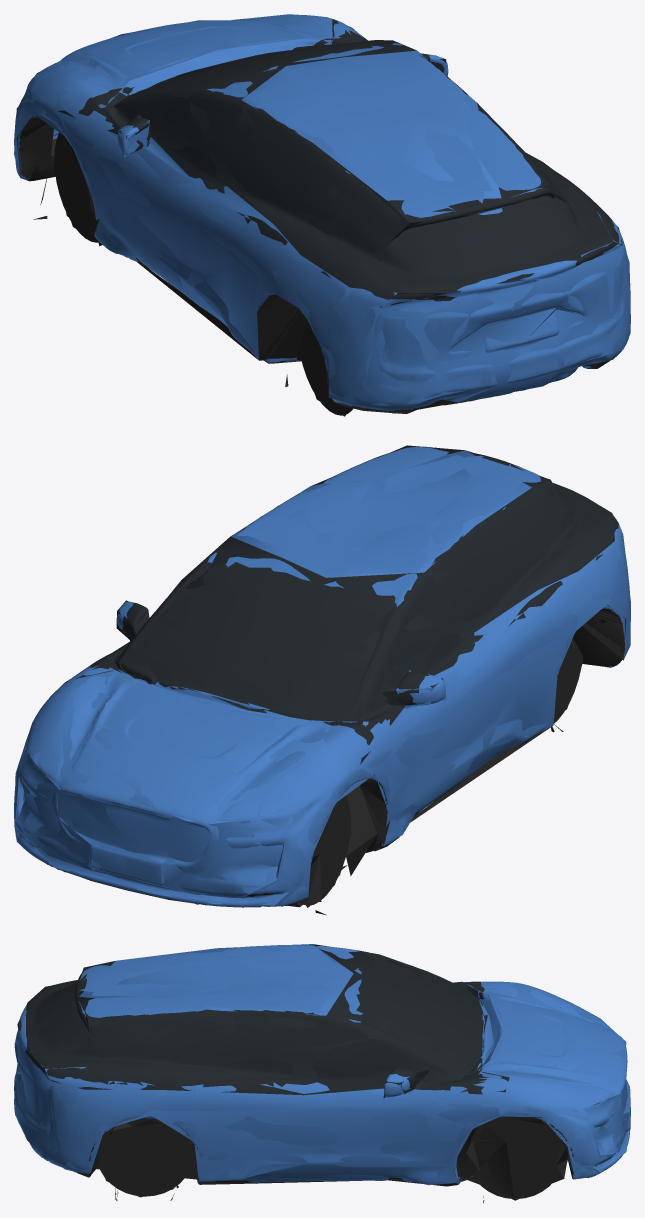
File: jaguar-i-pace.glb
3 renders of one model, top to bottom at view 1: azimuth 30°, elevation 25°; view 2: azimuth 150°, elevation 25°; view 3: azimuth 270°, elevation 25°, orthographic. The views are drawn at different scales.
Parts seen in each view (by area): view 1: body, far; view 2: body, far; view 3: body, far.
Boxes of the visible parts, x1,y1,x2,y2 form: body: (14, 14, 630, 415); far: (14, 14, 630, 416); body: (14, 446, 630, 915); far: (14, 445, 630, 913); body: (14, 944, 630, 1202); far: (14, 944, 630, 1202).
Size of the model in its own units: 2.23 by 1.53 by 4.74.
